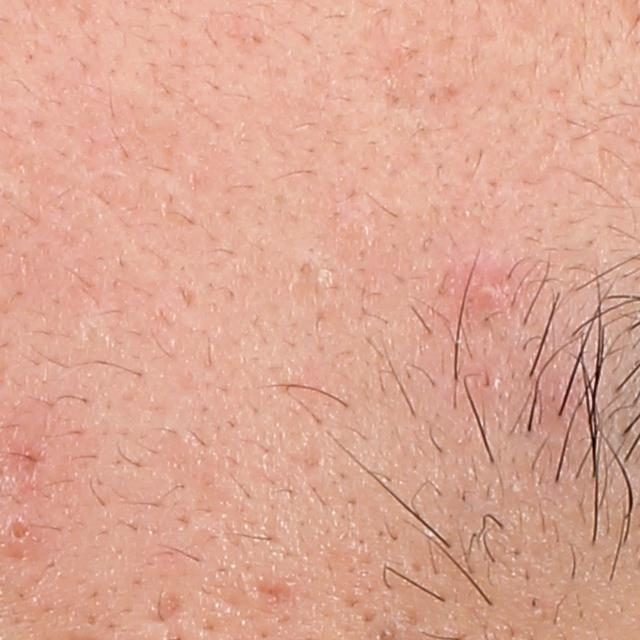atrophic_scar: (241, 578, 302, 613)
comedo: (5, 513, 32, 541)
papule: (465, 271, 509, 313)
